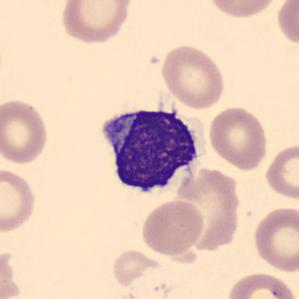Lymphocyte: (94, 96, 209, 202)
RBC: (174, 168, 240, 253), (158, 42, 227, 109), (206, 104, 269, 171), (140, 198, 206, 257), (0, 96, 50, 165), (58, 0, 133, 45), (251, 204, 299, 274), (0, 165, 38, 234), (262, 140, 299, 201), (225, 270, 297, 299), (110, 247, 160, 287), (206, 0, 280, 20), (274, 0, 298, 47)
